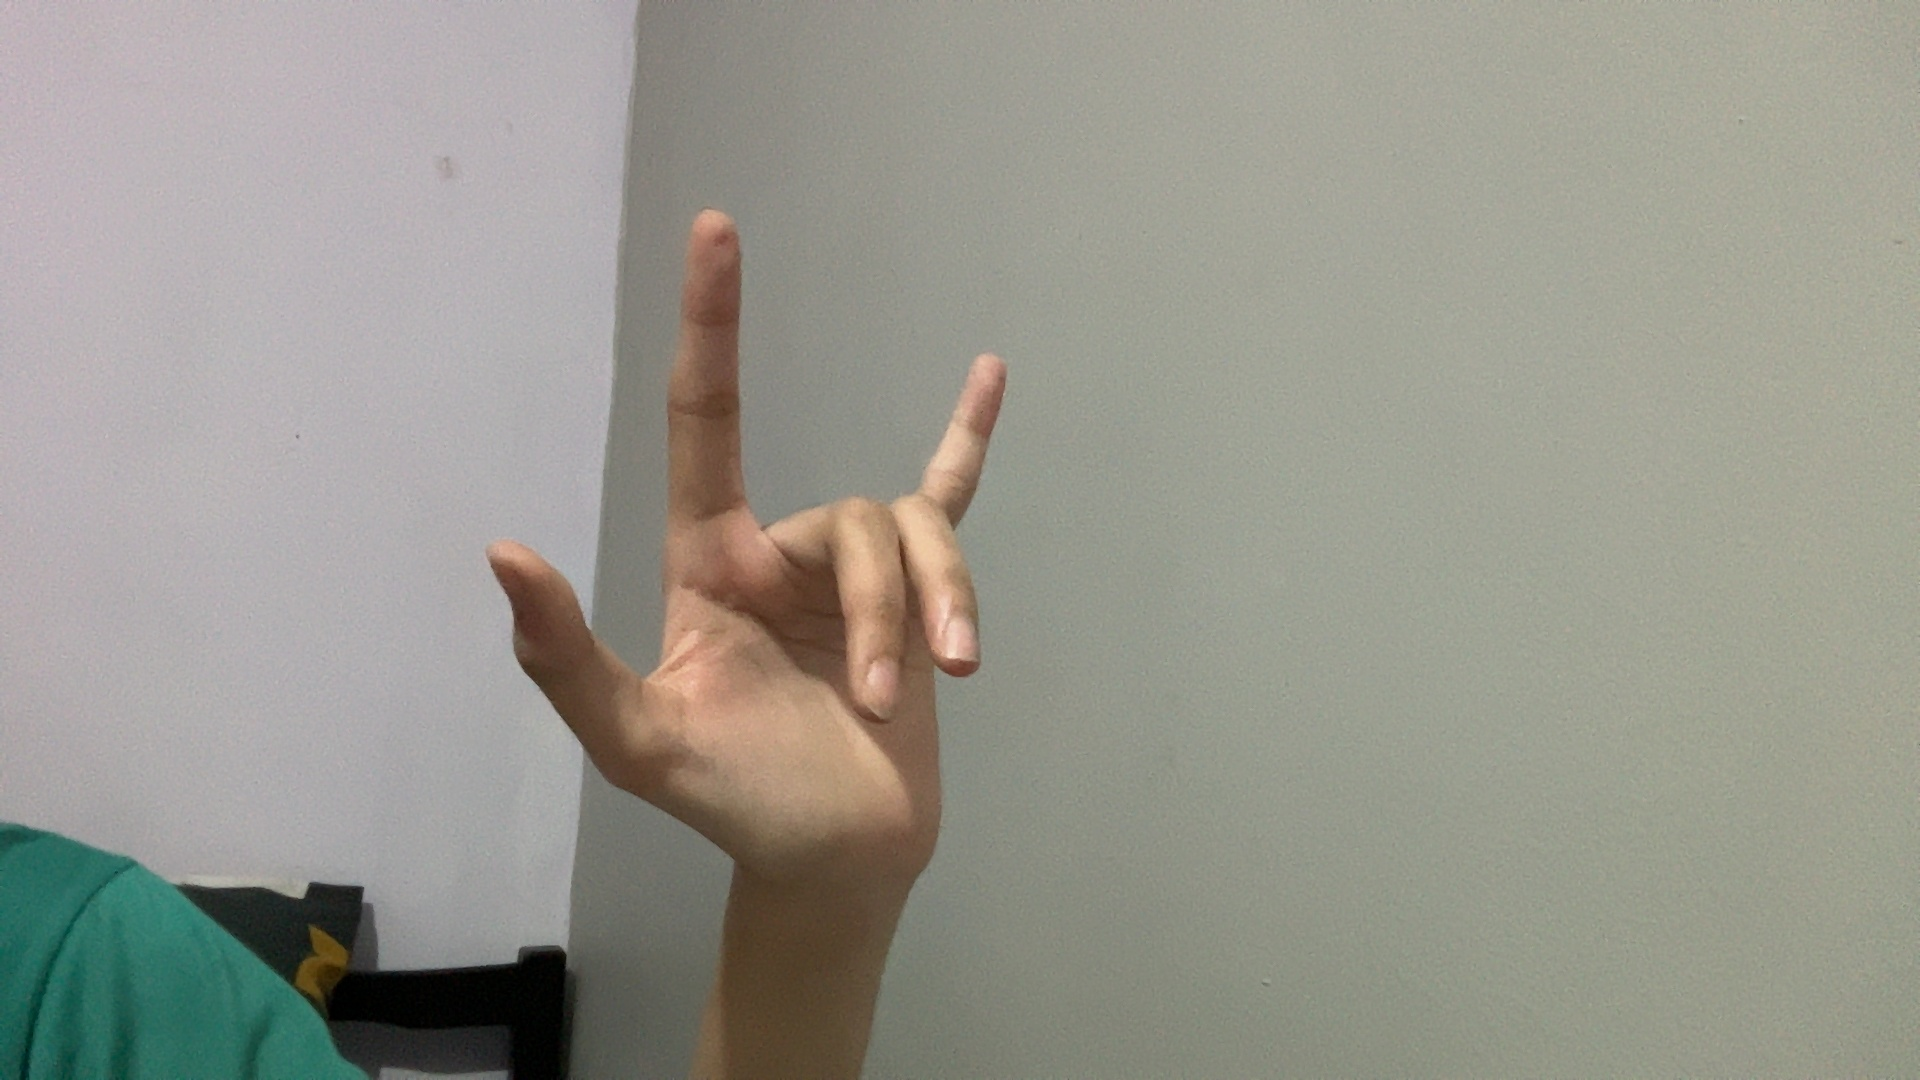I Love You: (334, 160, 1279, 951)
